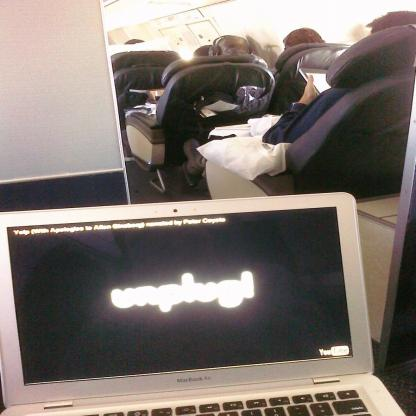board: (2, 189, 398, 416)
